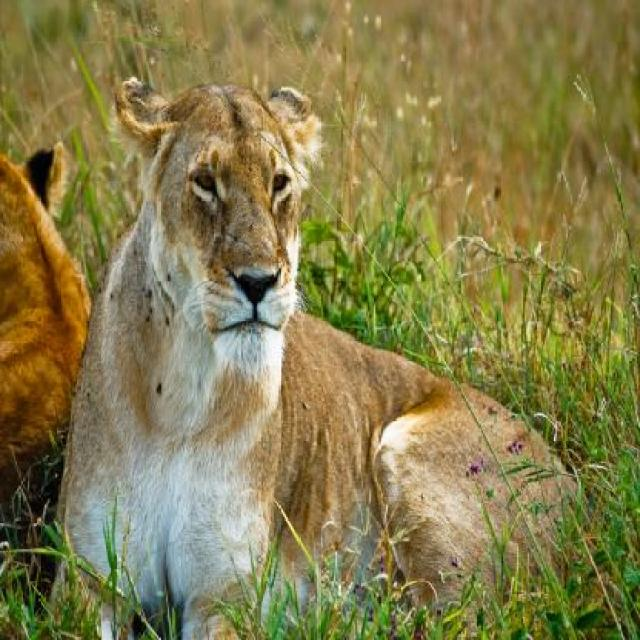Lion: (66, 56, 599, 638)
